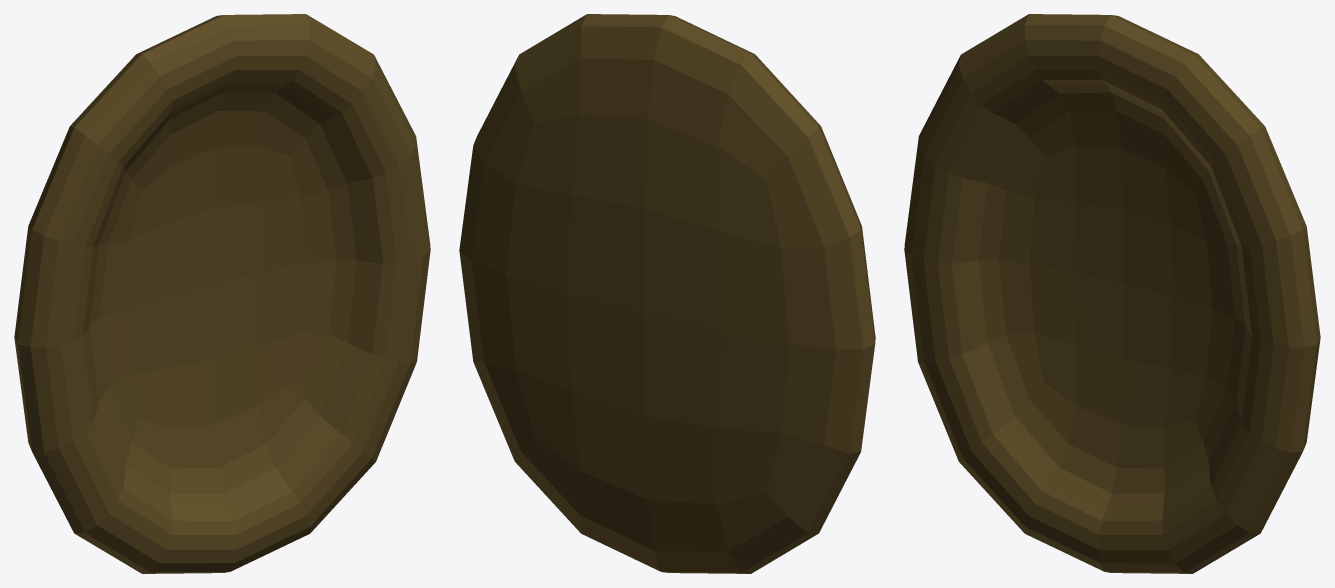
File: Photoframe6.fbx
3 renders of one model, left to right at view 1: azimuth 30°, elevation 25°; view 2: azimuth 150°, elevation 25°; view 3: azimuth 330°, elevation 25°, orthographic.
Visible parts, largest first — view 1: Photoframe.001; view 2: Photoframe.001; view 3: Photoframe.001.
Part boxes in pixels (x1,y1,x2,y2): Photoframe.001: [14, 14, 430, 573]; Photoframe.001: [459, 14, 875, 573]; Photoframe.001: [904, 14, 1320, 573].
Size of the model in its own units: 18.03 by 23.32 by 2.92.
